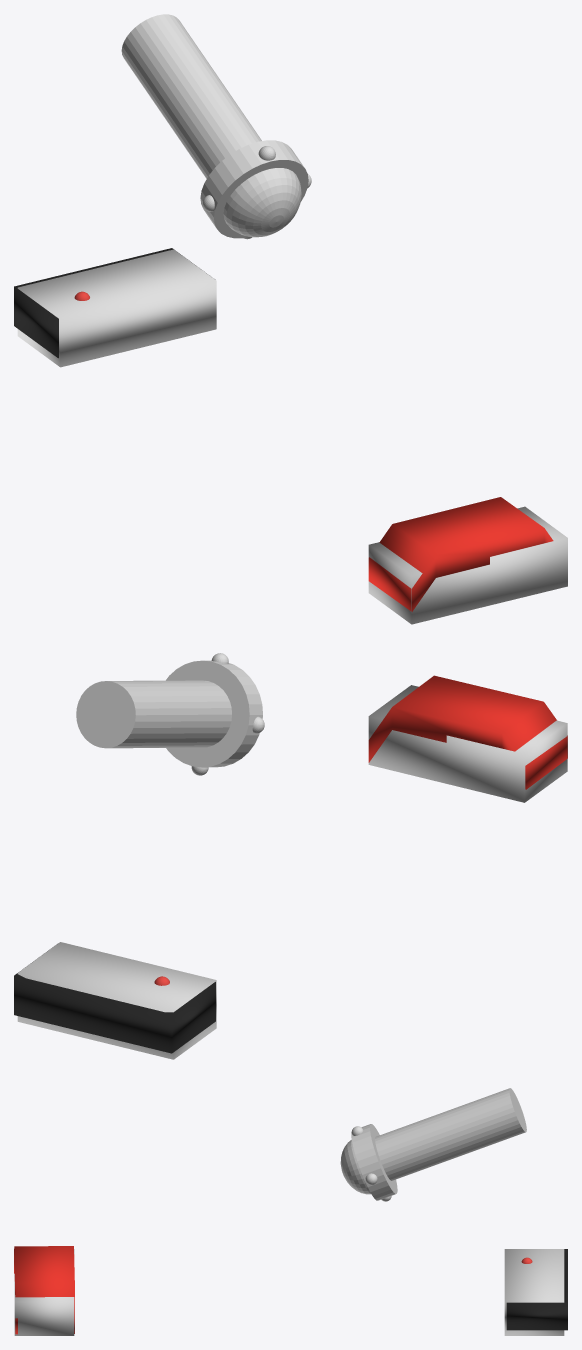
3 views of the same model, one above another, from view 1: azimuth 30°, elevation 25°; view 2: azimuth 150°, elevation 25°; view 3: azimuth 270°, elevation 25° (orthographic). The views are drawn at different scales.
Parts seen in each view (by area): view 1: 円柱.002, 立方体.007, 立方体.006, 立方体.005, 立方体.008; view 2: 円柱.002, 立方体.006, 立方体.005, 立方体.007, 立方体.008; view 3: 円柱.002, 立方体.007, 立方体.006, 立方体.005, 立方体.008.
Part boxes in pixels (x1=…): 円柱.002: x1=121, y1=14, x2=311, y2=239; 立方体.007: x1=17, y1=249, x2=216, y2=367; 立方体.006: x1=368, y1=497, x2=553, y2=611; 立方体.005: x1=368, y1=506, x2=567, y2=624; 立方体.008: x1=14, y1=248, x2=215, y2=358; 円柱.002: x1=76, y1=653, x2=264, y2=775; 立方体.006: x1=368, y1=675, x2=567, y2=789; 立方体.005: x1=368, y1=685, x2=567, y2=802; 立方体.007: x1=17, y1=942, x2=216, y2=1059; 立方体.008: x1=14, y1=947, x2=215, y2=1053; 円柱.002: x1=340, y1=1088, x2=526, y2=1201; 立方体.007: x1=504, y1=1249, x2=564, y2=1335; 立方体.006: x1=14, y1=1246, x2=74, y2=1334; 立方体.005: x1=14, y1=1249, x2=74, y2=1335; 立方体.008: x1=506, y1=1249, x2=567, y2=1330.
Size of the model in its own units: 4.26 by 8.37 by 18.54.
